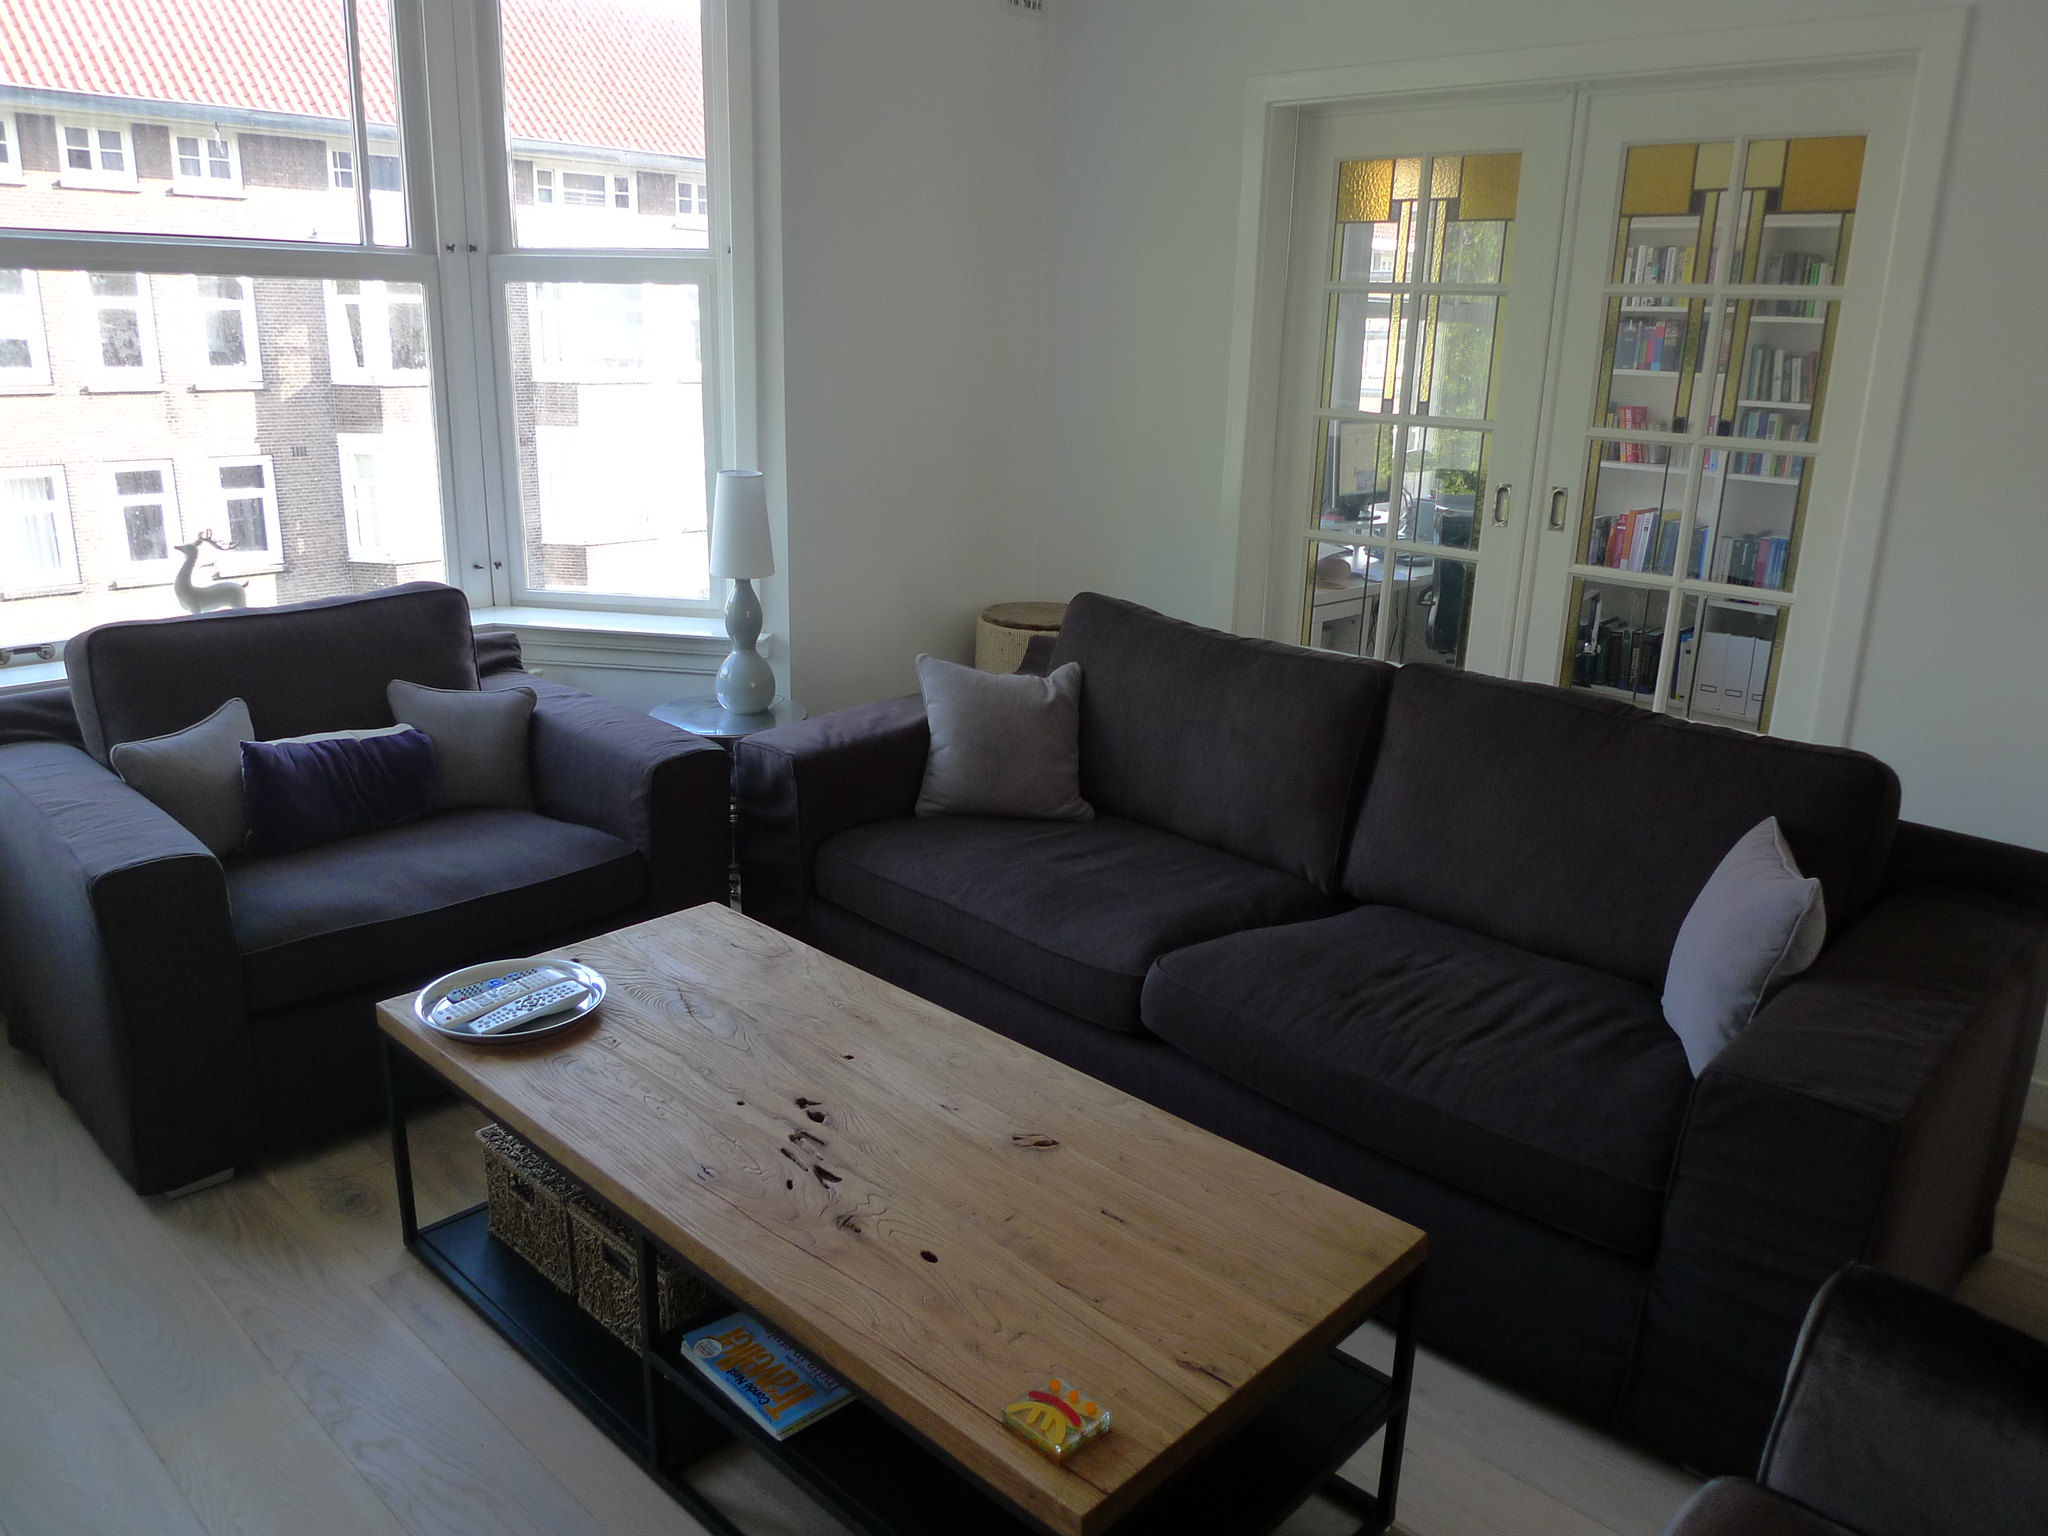sofa: (772, 570, 2033, 1357), (23, 553, 743, 1183)
